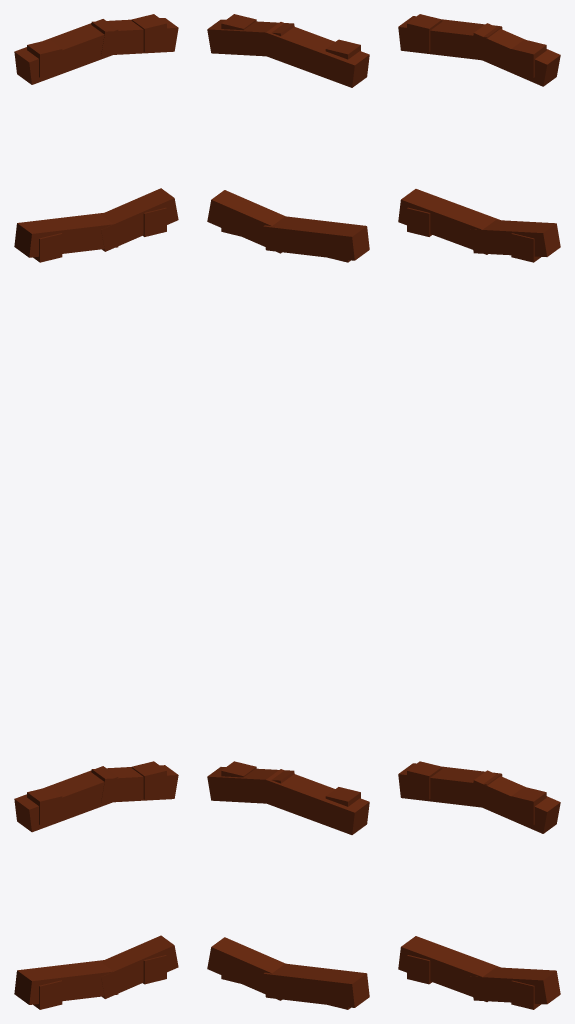
The model's file is pc_sleeper_clips.obj.
The picture shows the model from 3 angles, left to right: view 1: azimuth 30°, elevation 25°; view 2: azimuth 150°, elevation 25°; view 3: azimuth 330°, elevation 25°; orthographic projection.
Visible parts, largest first — view 1: clips; view 2: clips; view 3: clips.
Boxes of the visible parts, <box> form: clips: <box>14,14,178,1009</box>; clips: <box>207,14,369,1009</box>; clips: <box>398,14,560,1009</box>.
Bounding box in the file's own units: 0.2999 × 1.86 × 0.0555.
